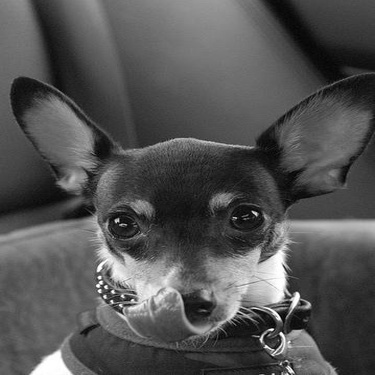dog: (7, 68, 370, 371)
